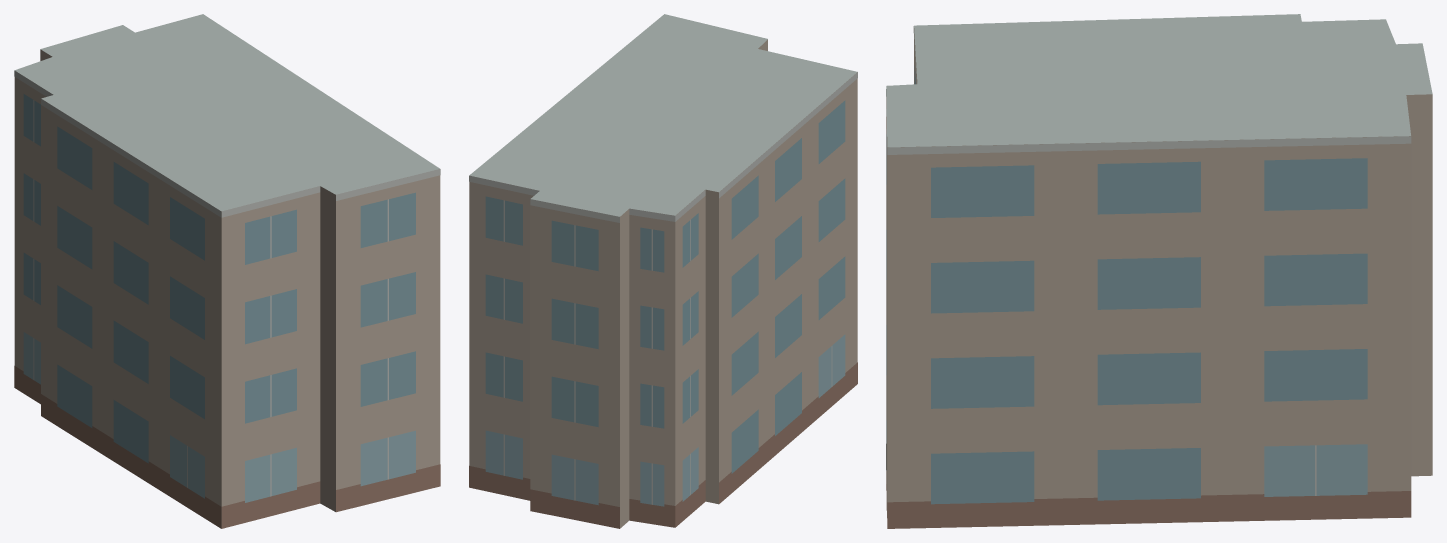
Rendered from survey-upis-32604613.glb.
The picture shows the model from 3 angles, left to right: view 1: azimuth 30°, elevation 25°; view 2: azimuth 150°, elevation 25°; view 3: azimuth 270°, elevation 25°; orthographic projection. The views are drawn at different scales.
Visible parts, largest first — view 1: survey-upis-32604613.tmp; view 2: survey-upis-32604613.tmp; view 3: survey-upis-32604613.tmp.
Boxes of the visible parts, x1,y1,x2,y2 form: survey-upis-32604613.tmp: [14, 14, 440, 528]; survey-upis-32604613.tmp: [469, 14, 857, 528]; survey-upis-32604613.tmp: [886, 14, 1432, 528].
Bounding box in the file's own units: 9.16 × 12.2 × 15.85.
